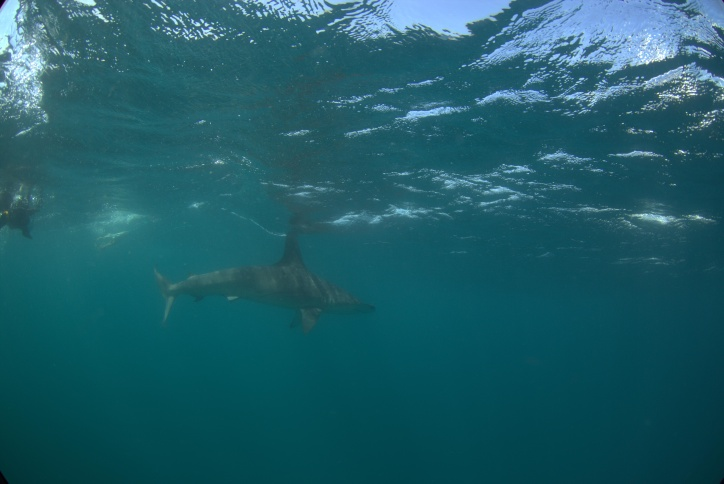Hammer: (131, 221, 389, 366)
